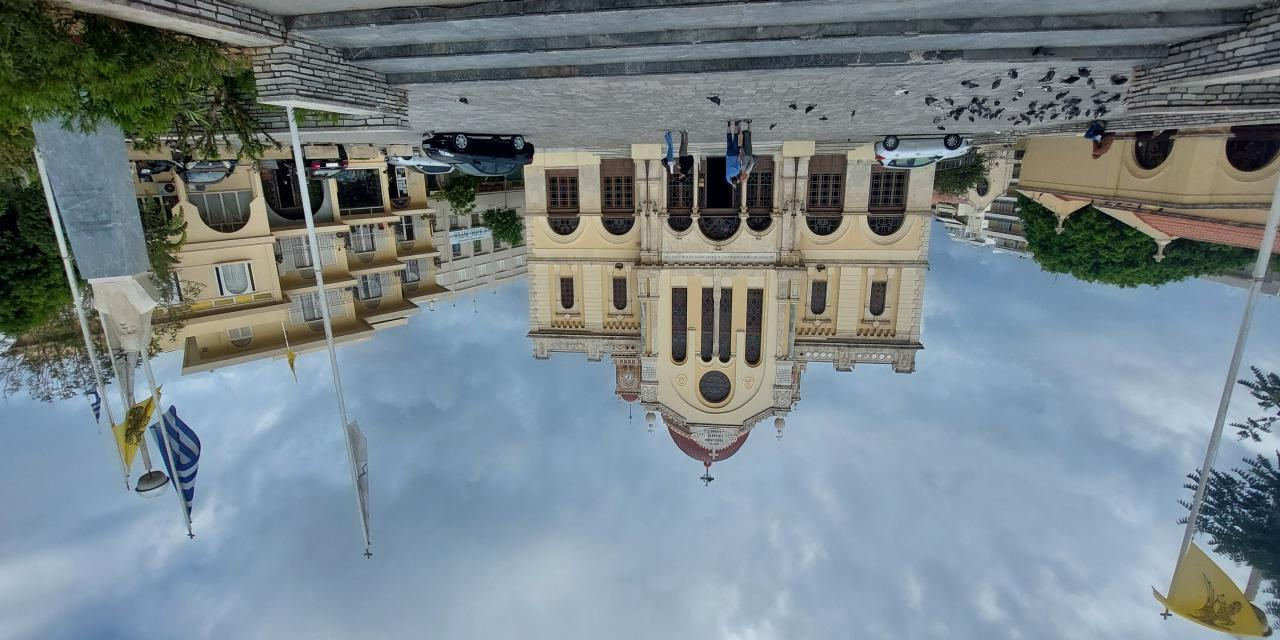Agios Minas: (522, 141, 937, 495)
